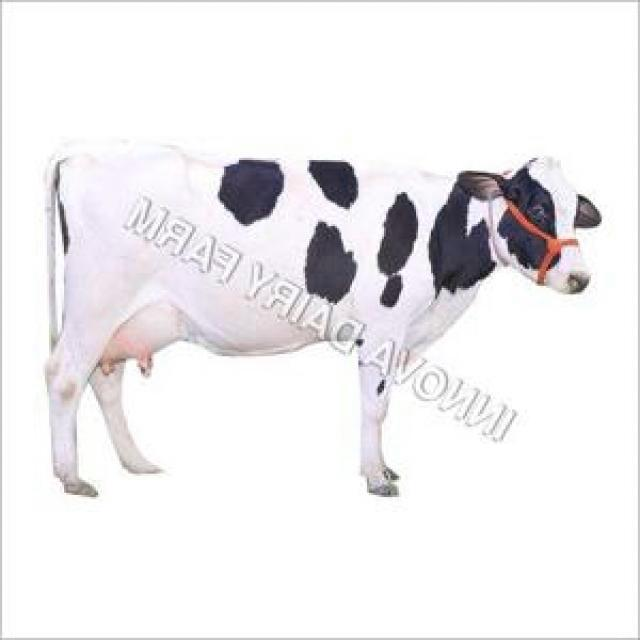cow: (46, 144, 601, 496)
